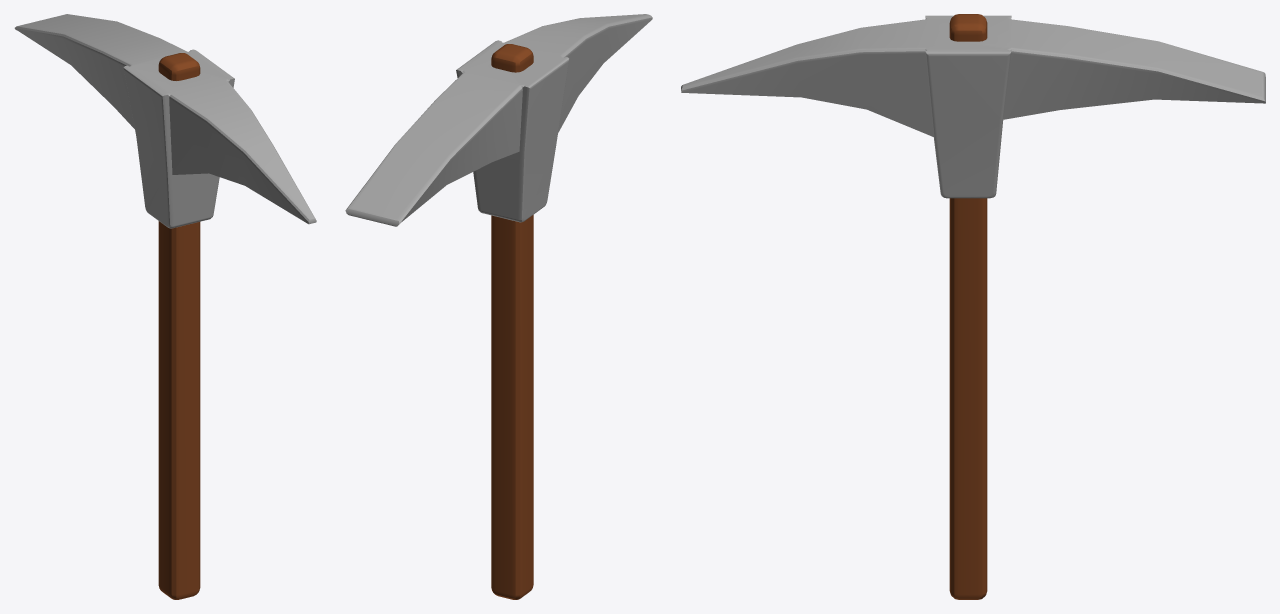
The model's file is pickaxe.fbx.
The picture shows the model from 3 angles, left to right: view 1: azimuth 30°, elevation 25°; view 2: azimuth 150°, elevation 25°; view 3: azimuth 270°, elevation 25°; orthographic projection. The views are drawn at different scales.
Parts seen in each view (by area): view 1: kafa, govde; view 2: kafa, govde; view 3: kafa, govde.
Part boxes in pixels (left/top/right/bottom): kafa: left=14, top=14, right=316, bottom=228; govde: left=158, top=53, right=200, bottom=599; kafa: left=345, top=14, right=652, bottom=226; govde: left=491, top=44, right=533, bottom=599; kafa: left=681, top=15, right=1265, bottom=198; govde: left=949, top=14, right=987, bottom=599.
Size of the model in its own units: 2.17 by 15.08 by 13.86.
